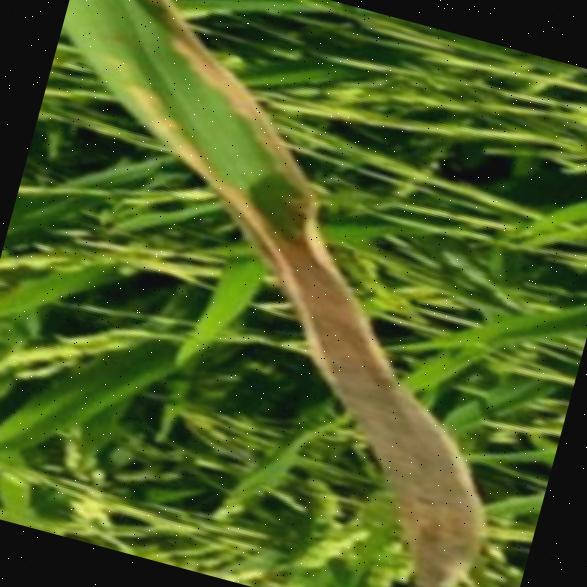Bacteria_Leaf_Blight: (124, 35, 354, 302)
